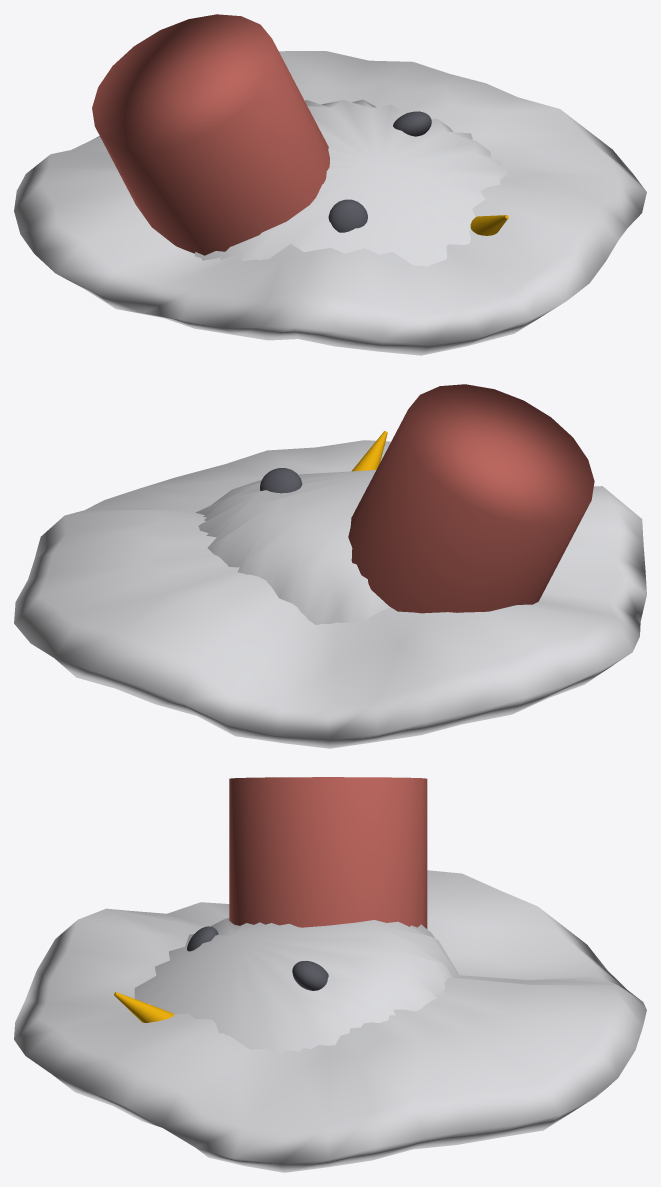
Rendered from Snowman(GaneOver).fbx.
The picture shows the model from 3 angles, top to bottom: view 1: azimuth 30°, elevation 25°; view 2: azimuth 150°, elevation 25°; view 3: azimuth 270°, elevation 25°; orthographic projection. The views are drawn at different scales.
Parts seen in each view (by area): view 1: pCylinder3, pCylinder2, pCone1, pSphere2, pSphere1, pCylinder1; view 2: pCylinder3, pCylinder2, pCone1, pSphere1, pCylinder1; view 3: pCylinder3, pCylinder2, pCone1, pSphere1, pCylinder1.
Part boxes in pixels (x1,y1,x2,y2): pCylinder3: (14, 51, 646, 355); pCylinder2: (92, 14, 329, 255); pCone1: (195, 99, 508, 266); pSphere2: (328, 199, 367, 232); pSphere1: (393, 111, 431, 136); pCylinder1: (470, 215, 508, 235); pCylinder3: (14, 440, 646, 748); pCylinder2: (348, 384, 594, 613); pCone1: (195, 470, 390, 624); pSphere1: (260, 468, 302, 493); pCylinder1: (352, 431, 387, 471); pCylinder3: (14, 870, 646, 1172); pCylinder2: (229, 777, 427, 928); pCone1: (134, 918, 458, 1055); pSphere1: (292, 960, 328, 990); pCylinder1: (114, 992, 174, 1022).
Size of the model in its own units: 2.07 by 0.8434 by 2.04.
